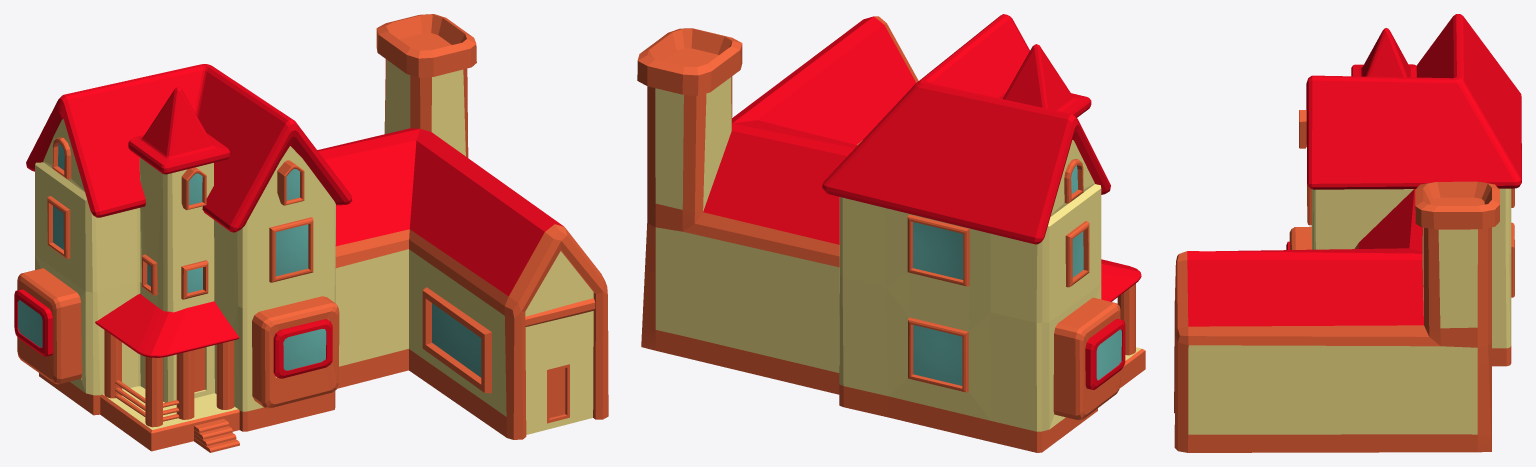
The model's file is SM_House_25.fbx.
3 renders of one model, left to right at view 1: azimuth 30°, elevation 25°; view 2: azimuth 150°, elevation 25°; view 3: azimuth 270°, elevation 25°, orthographic. The views are drawn at different scales.
Visible parts, largest first — view 1: SM_House_25; view 2: SM_House_25; view 3: SM_House_25.
Part boxes in pixels (box(x1,y1,x2,y2)): SM_House_25: box(14, 14, 608, 452); SM_House_25: box(637, 14, 1145, 452); SM_House_25: box(1174, 14, 1521, 452).
Bounding box in the file's own units: 1378 × 979 × 1077.
